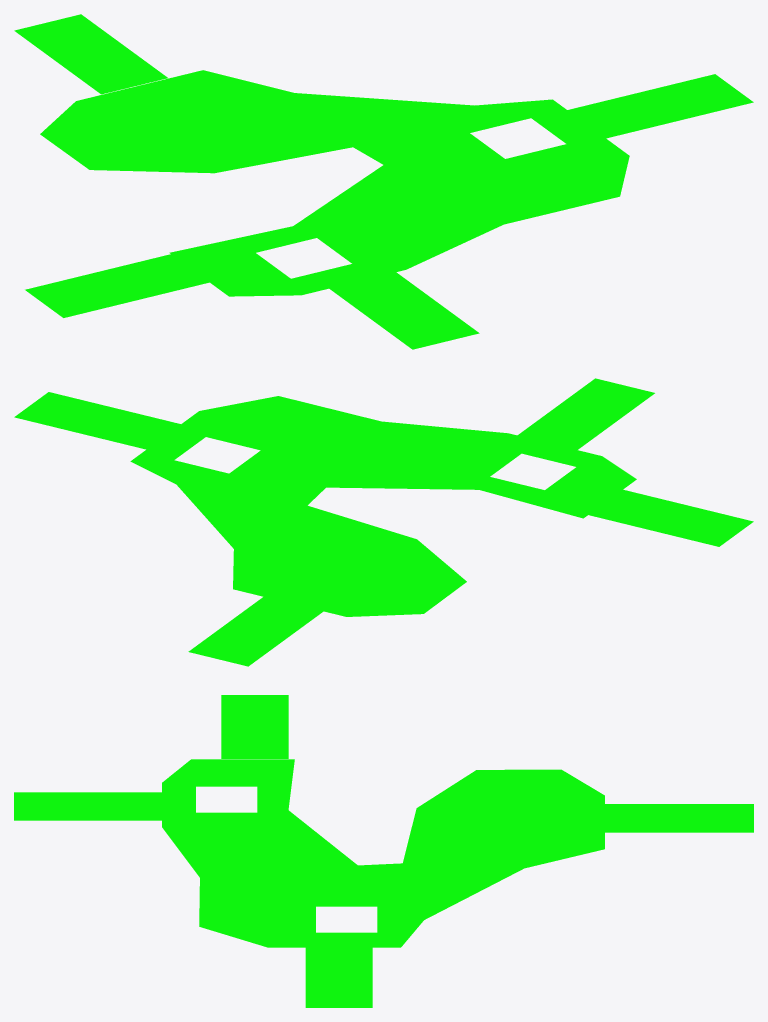
File: s03a_xb2-floor.glb
3 renders of one model, top to bottom at view 1: azimuth 30°, elevation 25°; view 2: azimuth 150°, elevation 25°; view 3: azimuth 270°, elevation 25°, orthographic. The views are drawn at different scales.
Parts seen in each view (by area): view 1: collision_floor-colonly; view 2: collision_floor-colonly; view 3: collision_floor-colonly.
Part boxes in pixels (x1,y1,x2,y2): collision_floor-colonly: [14, 14, 753, 349]; collision_floor-colonly: [14, 378, 753, 666]; collision_floor-colonly: [14, 695, 753, 1007].
Bounding box in the file's own units: 66 × 0.1992 × 66.
